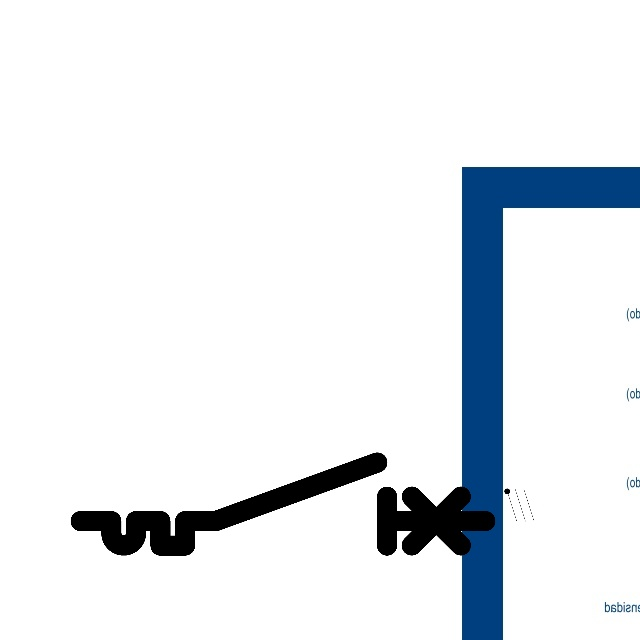interruptor_termomagnetico: (70, 452, 496, 556)
